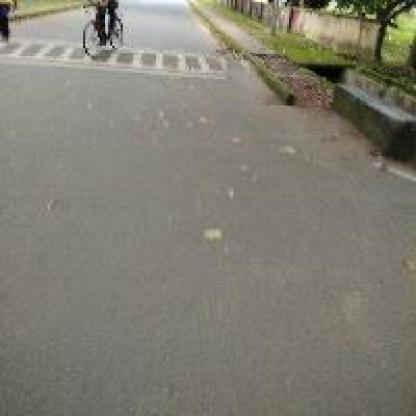Speed Bump: (116, 48, 252, 79), (2, 37, 83, 68)
